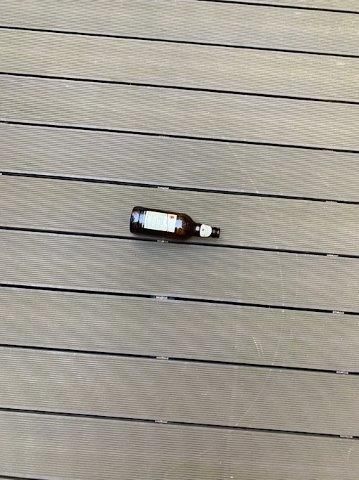botolkaca: (129, 206, 222, 243)
